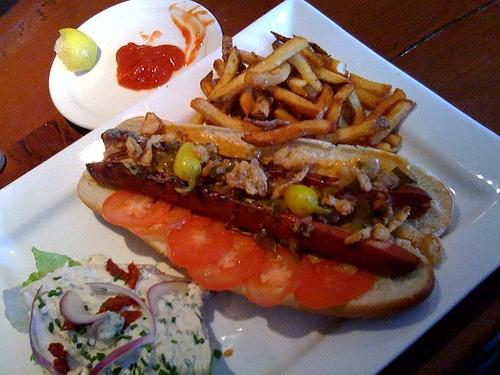lemon: (53, 28, 97, 72)
onion: (84, 283, 156, 374), (30, 284, 61, 374), (94, 332, 156, 370), (148, 279, 188, 319), (60, 290, 107, 324)
tomato: (188, 233, 264, 290), (244, 240, 304, 307), (294, 259, 374, 308), (167, 216, 234, 267), (102, 188, 172, 227), (128, 207, 192, 236)
